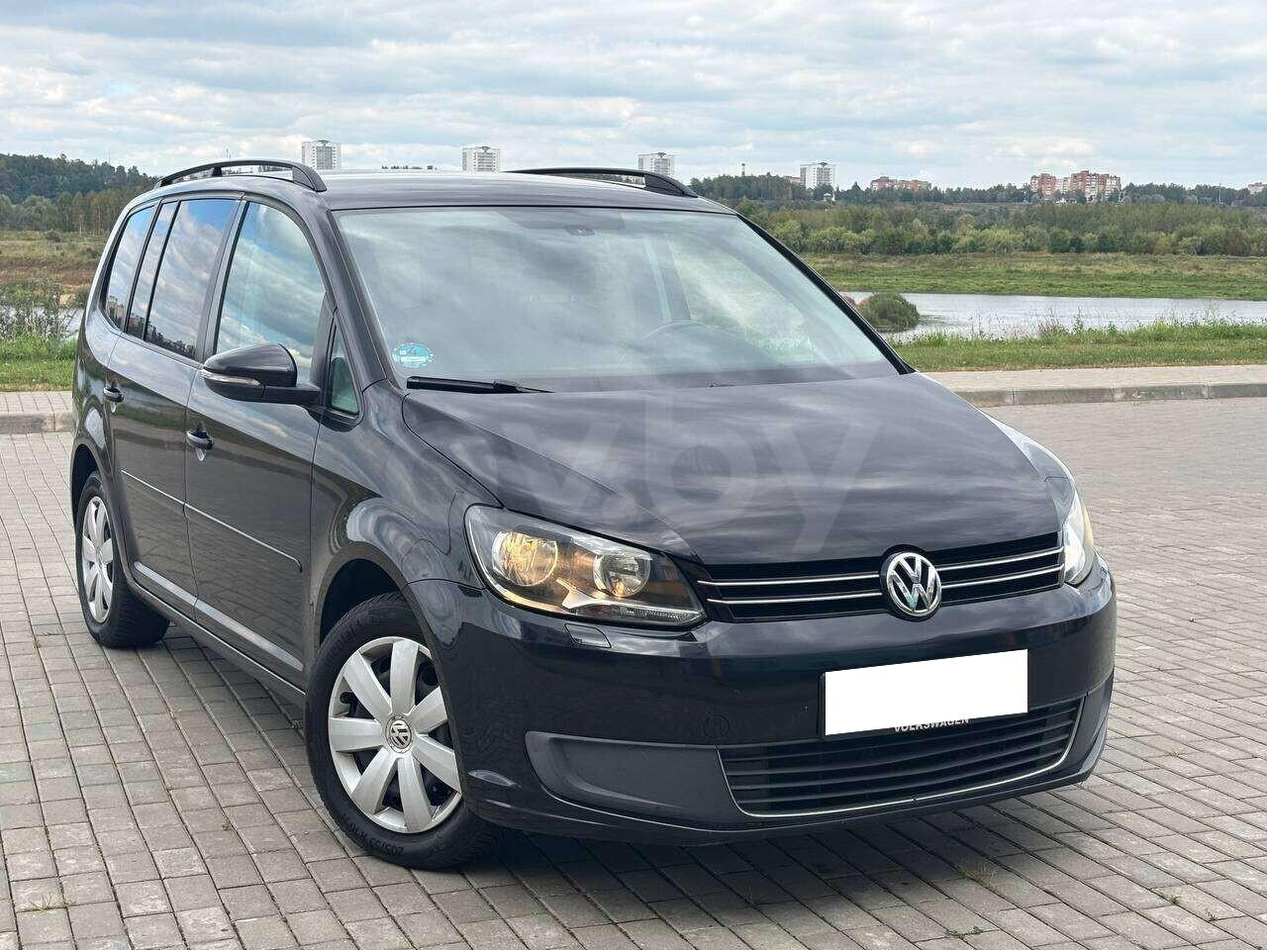Touran_2010-2015: (64, 160, 1119, 858)
